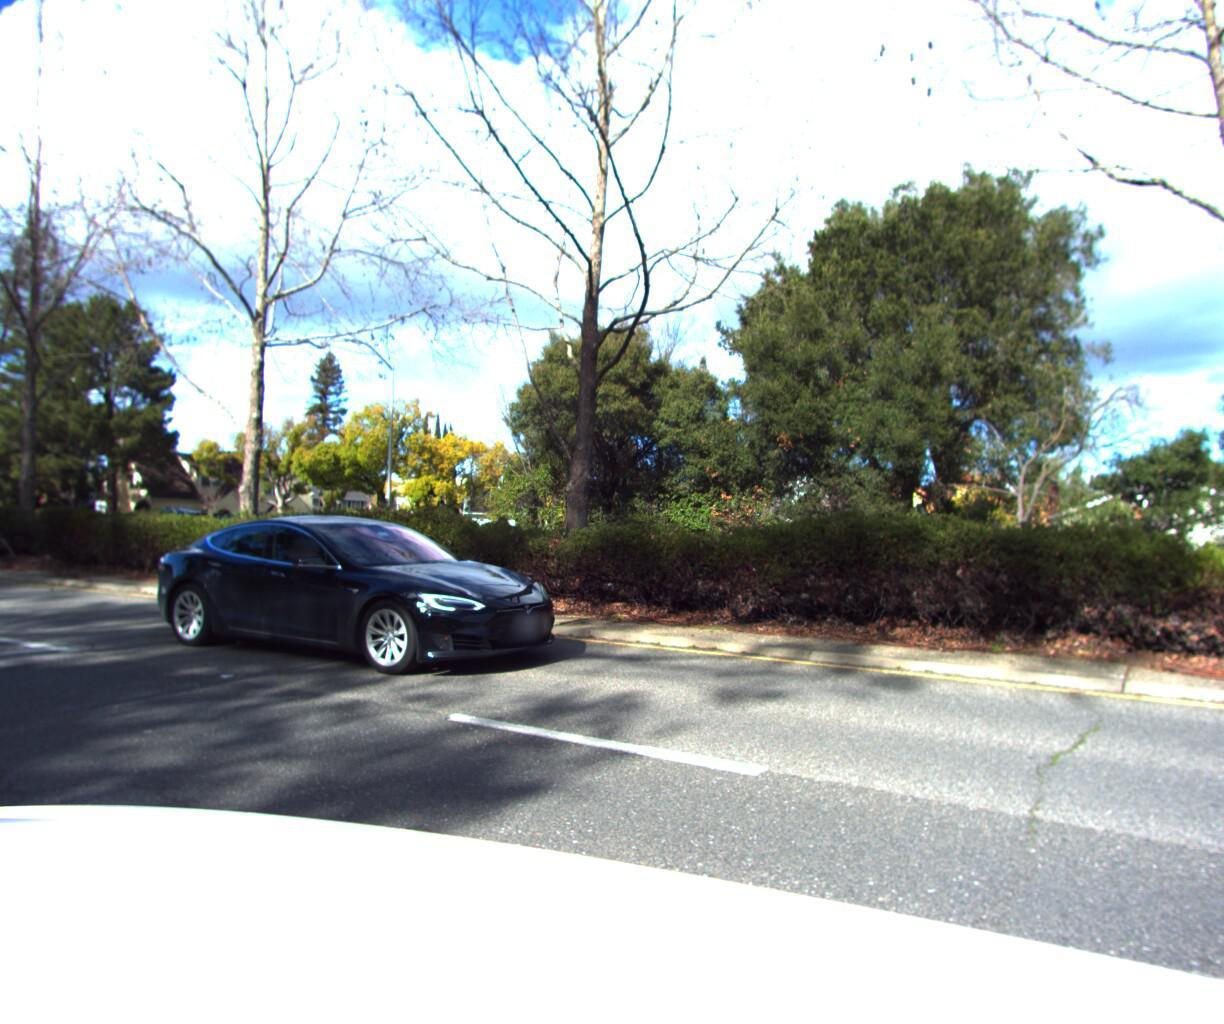car: (122, 506, 598, 695)
